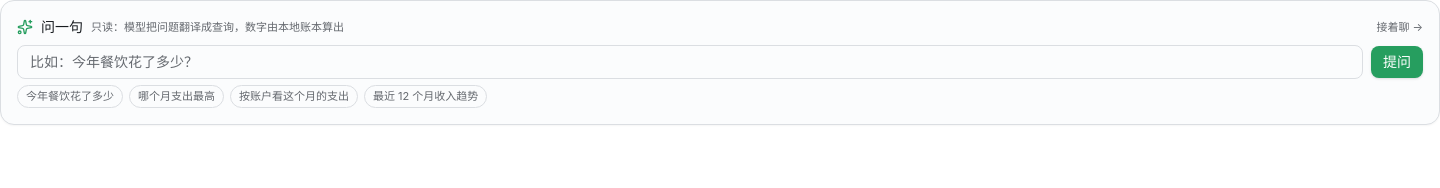
Test case: AskCard › shows the structured error when the question cannot be answered
Click the button "哪个月支出最高": coordinates (176, 96) 129,85 -> 224,108
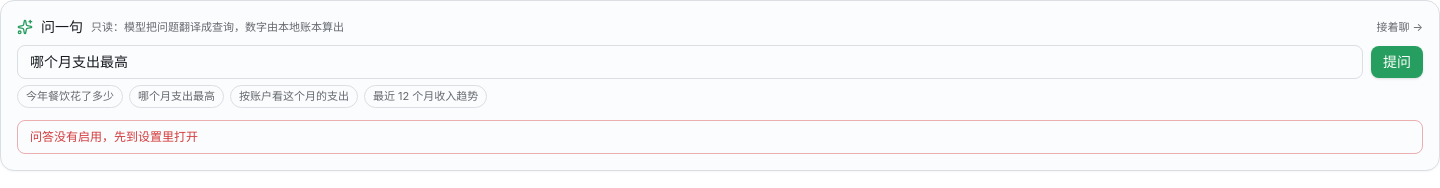
Now the text "问答没有启用，先到设置里打开" is shown, box 17,120 -> 1423,154
